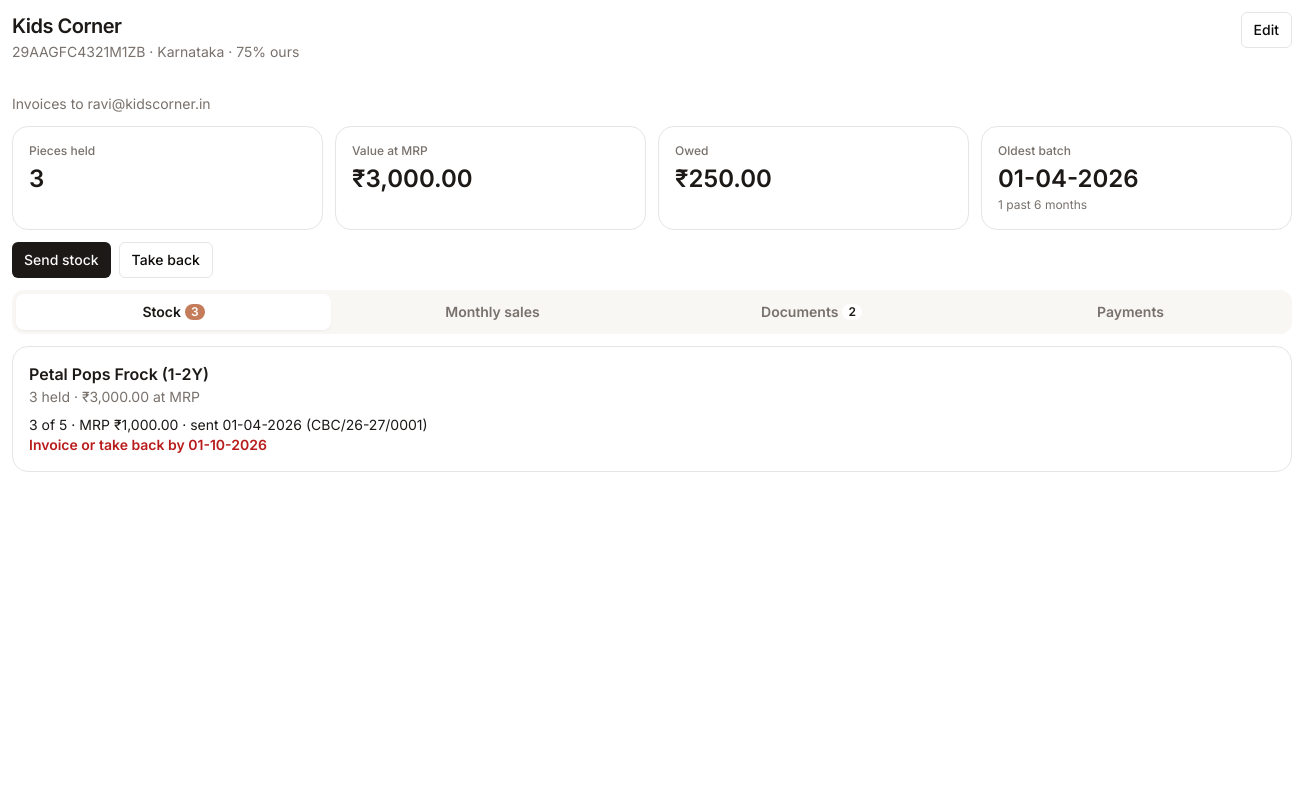
Test: RetailerClient › switches to documents and payments
This screenshot has width=1304, height=800.
Expected: the heading "Kids Corner" is shown, x1=12 y1=14 x2=122 y2=38
Click the tab "Documents 2": coordinates (812, 312) x1=654 y1=294 x2=969 y2=330
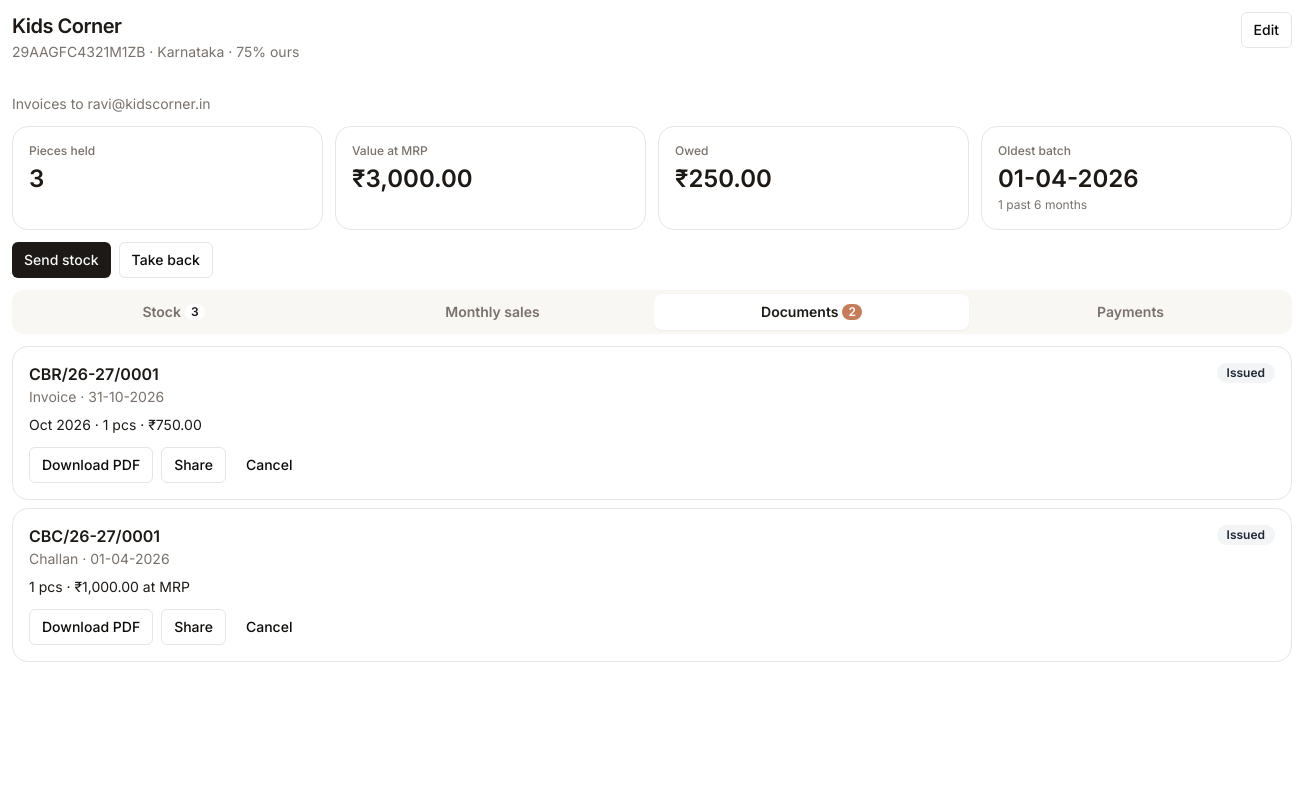
Expected: the text "CBC/26-27/0001" is shown, x1=29 y1=525 x2=160 y2=547
Click the tab "Payments": coordinates (1130, 312) x1=973 y1=294 x2=1288 y2=330
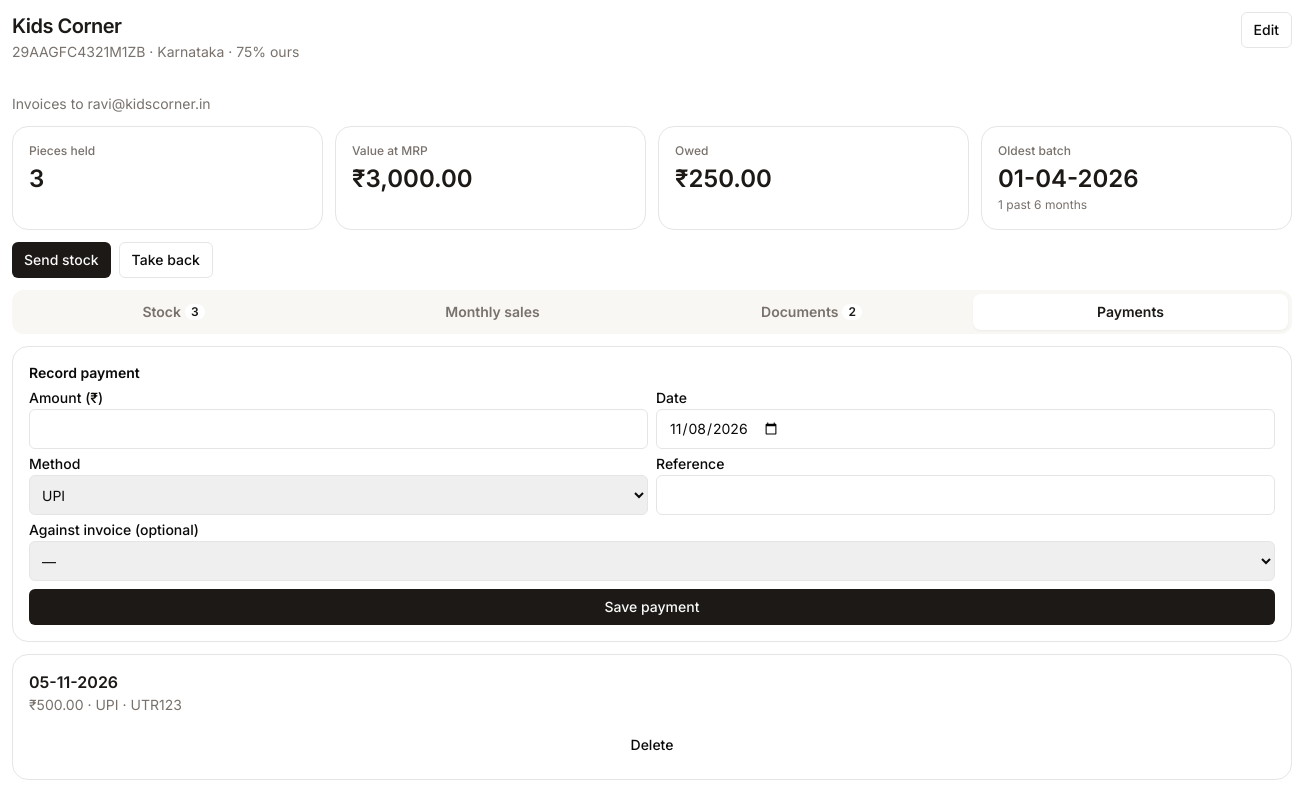
Expected: the text "₹500.00 · UPI · UTR123" is shown, x1=29 y1=696 x2=182 y2=713
